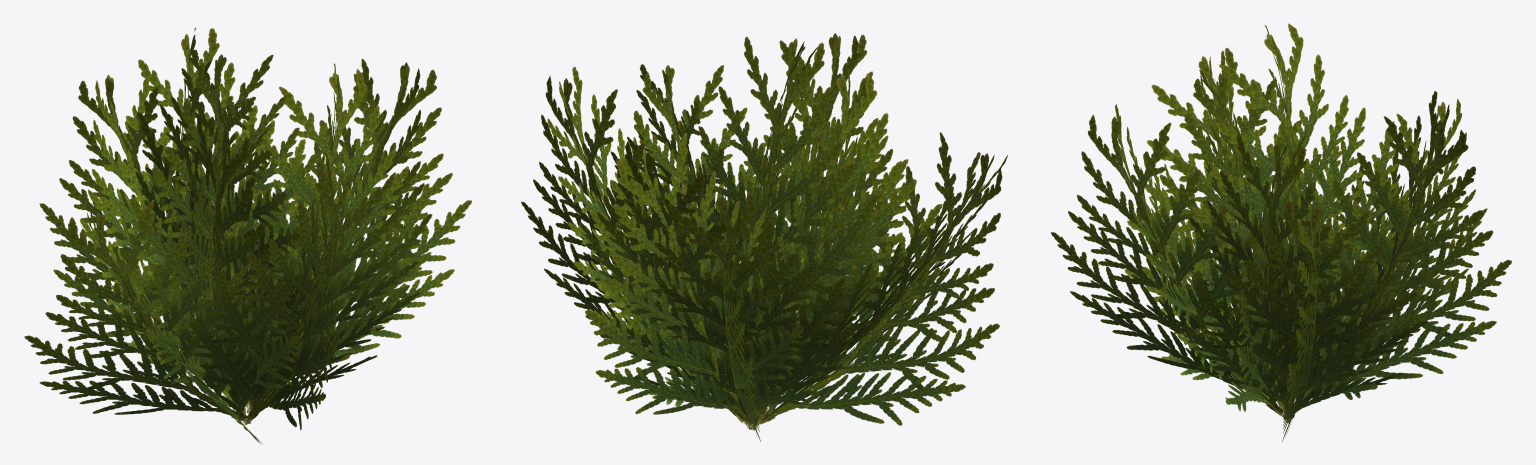
The model's file is bush.glb.
The picture shows the model from 3 angles, left to right: view 1: azimuth 30°, elevation 25°; view 2: azimuth 150°, elevation 25°; view 3: azimuth 270°, elevation 25°; orthographic projection. The views are drawn at different scales.
Visible parts, largest first — view 1: bush_leaf.001_0; view 2: bush_leaf.001_0; view 3: bush_leaf.001_0.
Boxes of the visible parts, left/top/right/bottom form: bush_leaf.001_0: left=24, top=28, right=471, bottom=444; bush_leaf.001_0: left=521, top=33, right=1007, bottom=441; bush_leaf.001_0: left=1050, top=23, right=1511, bottom=441.
Size of the model in its own units: 0.5778 by 0.4731 by 0.5205.
Materials: 1 (1 with a texture image).
